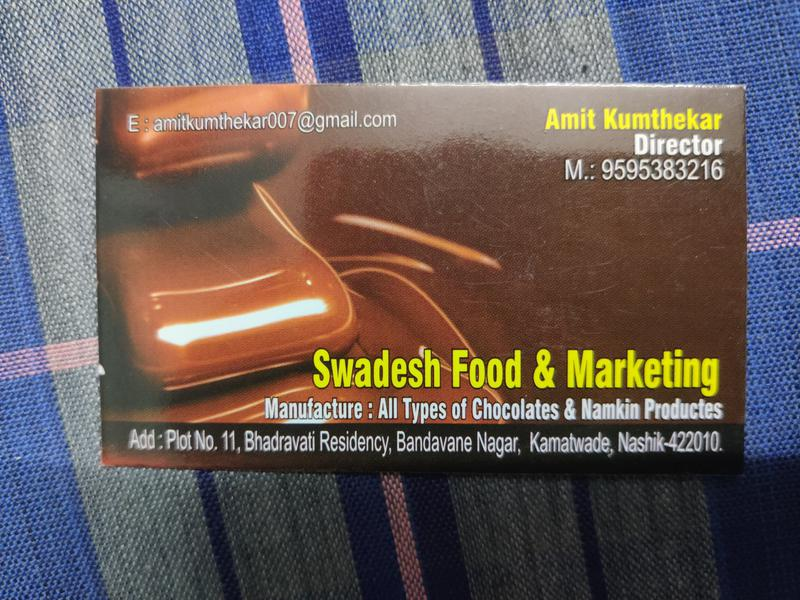card: (92, 85, 748, 479)
